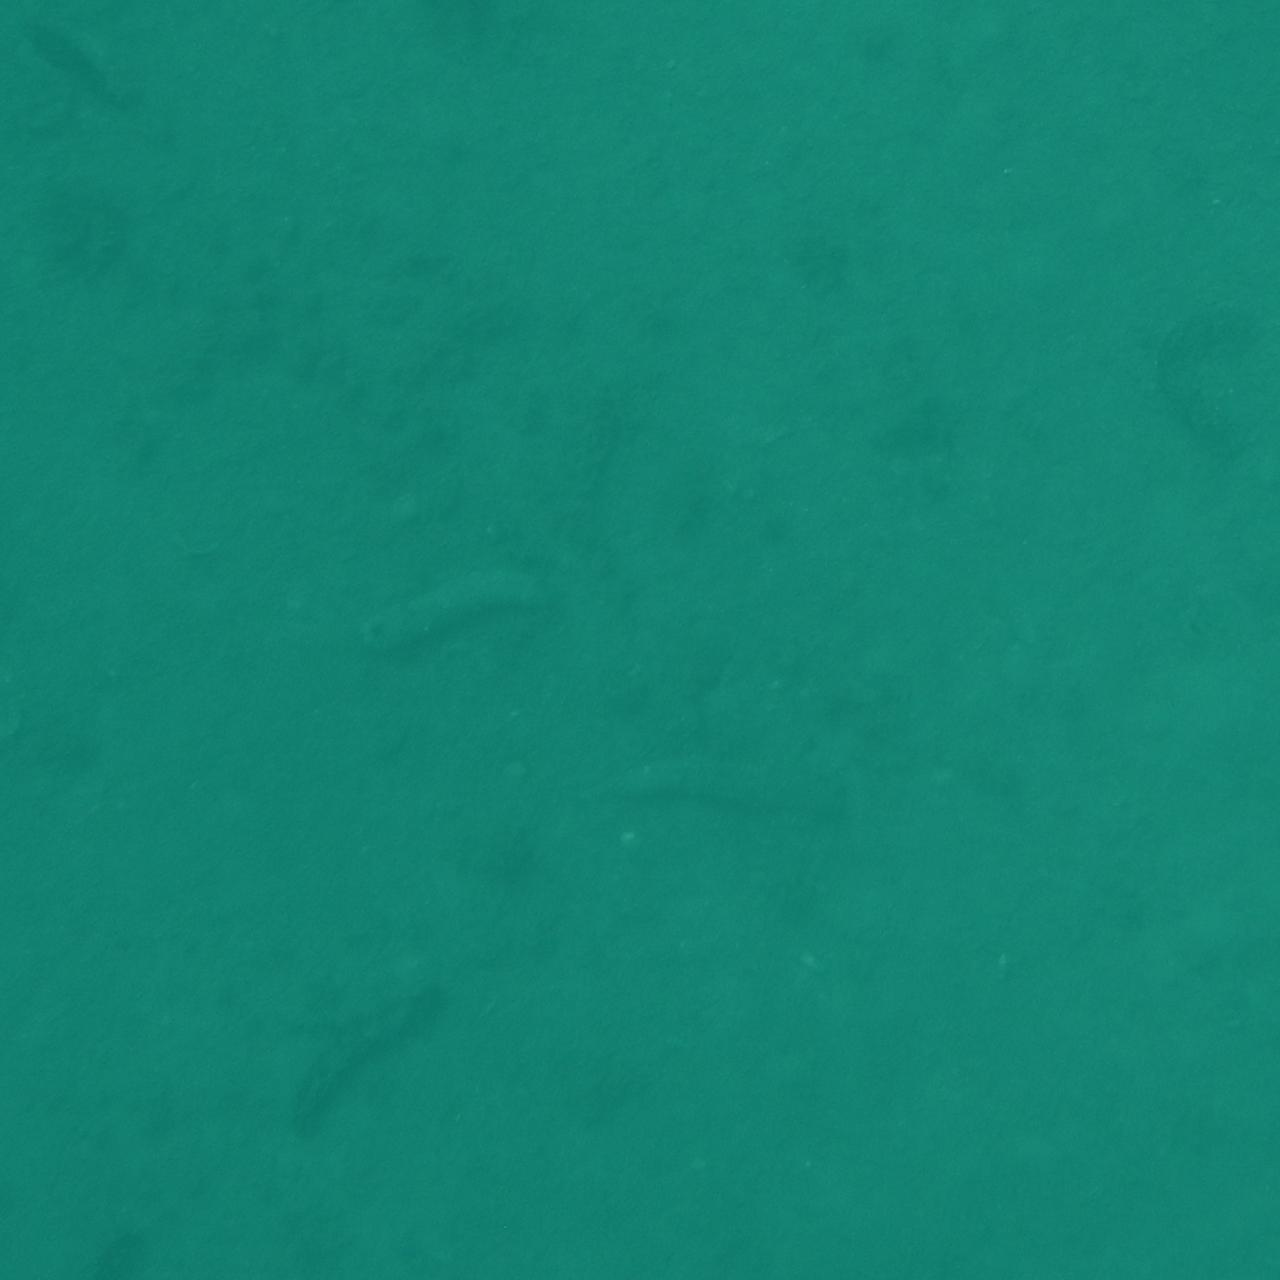Holothuria tubulosa: (277, 948, 489, 1142), (604, 706, 863, 850), (320, 535, 588, 644), (1121, 273, 1272, 464), (11, 0, 151, 124), (0, 1186, 147, 1280), (0, 1201, 168, 1280), (53, 1172, 175, 1280), (1185, 0, 1280, 115), (1182, 0, 1280, 105), (0, 0, 89, 86), (1205, 0, 1280, 95)
